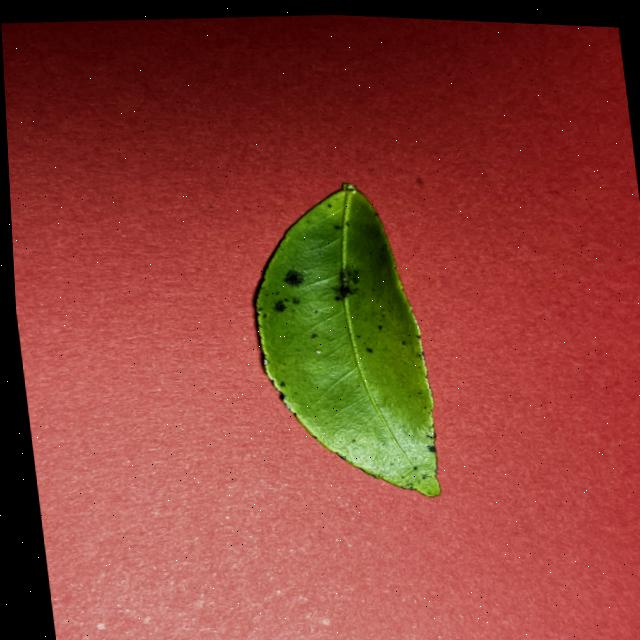sooty_mold: (255, 182, 439, 495)
